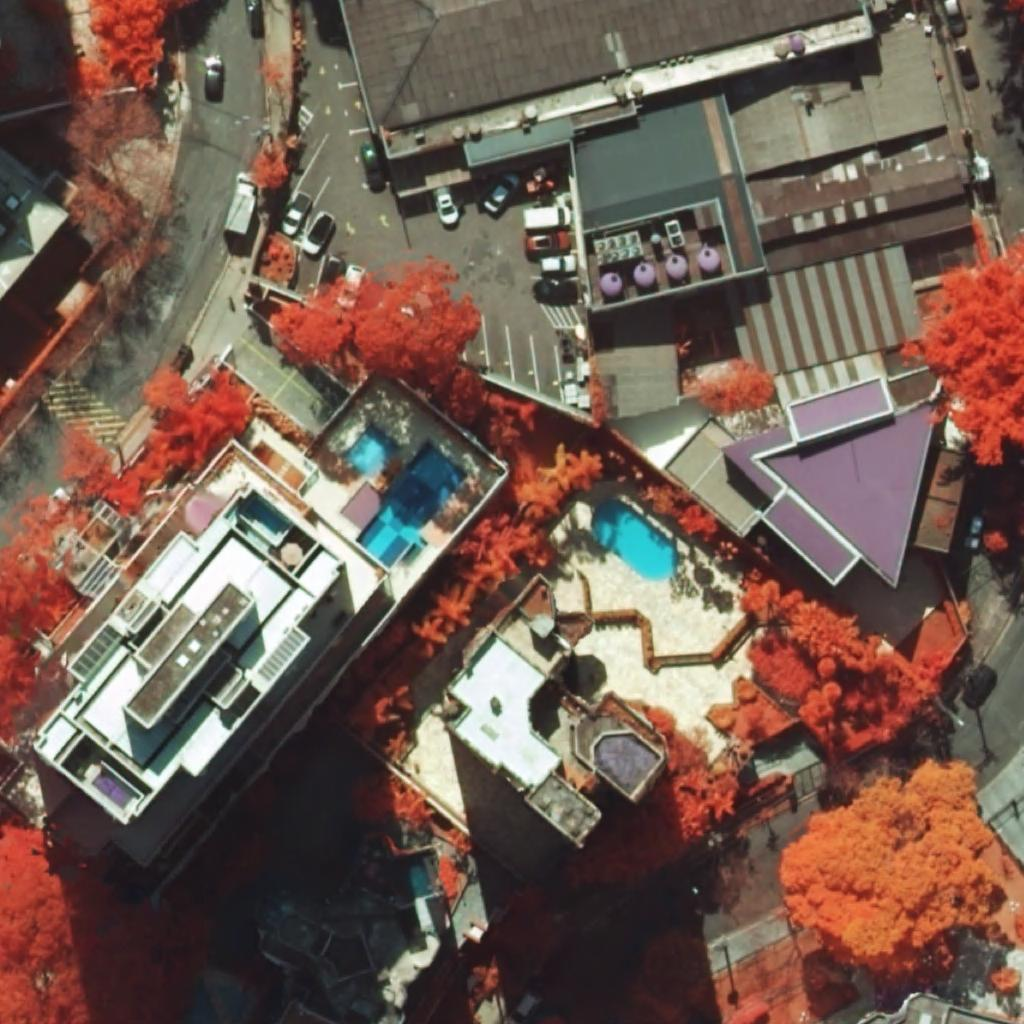pool: (355, 441, 469, 569), (593, 501, 678, 582), (345, 424, 398, 475), (92, 769, 134, 810)
